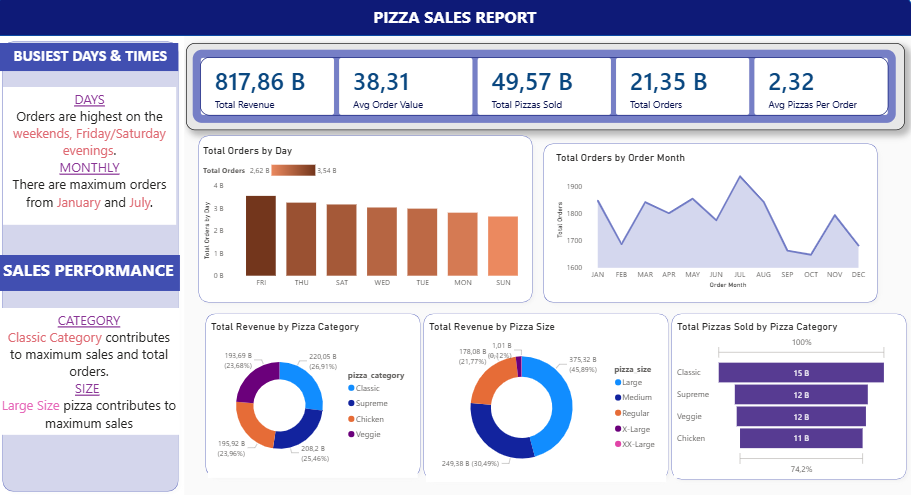

This screenshot's page, from the dashboard's own definition file:
{"tool":"powerbi","page":{"name":"1. sayfa","canvas":[1500,820],"ordinal":0},"visuals":[{"type":"cardVisual","fields":{"Data":["pizza_sales.Total Revenue","pizza_sales.Avg Order Value","pizza_sales.Total Pizzas Sold","pizza_sales.Total Orders","pizza_sales.Avg Pizzas Per Order"]},"box":[310,75.4,1179.2,142.7],"z":0},{"type":"shape","box":[0,0,1500.6,64],"z":1000},{"type":"textbox","box":[547.8,8.2,406.7,49.2],"z":2000},{"type":"shape","box":[321.4,218.1,565.8,291.9],"z":3000},{"type":"clusteredColumnChart","title":"Total Orders by Day","fields":{"Category":["pizza_sales.Order Day"],"Y":["pizza_sales.Total Orders"]},"box":[332.9,241.1,554.3,246],"z":4000},{"type":"shape","box":[887.2,231.2,565.8,278.8],"z":5000},{"type":"areaChart","title":"Total Orders by Order Month","fields":{"Category":["pizza_sales.Order Month"],"Y":["pizza_sales.Total Orders"]},"box":[911.8,252.6,521.5,229.6],"z":6000},{"type":"shape","box":[332.9,510,370.6,285.4],"z":7000},{"type":"shape","box":[690.4,510,419.8,290.3],"z":8000},{"type":"shape","box":[1097.2,510,403.4,290.3],"z":9000},{"type":"donutChart","title":"Total Revenue by Pizza Category","fields":{"Category":["pizza_sales.pizza_category"],"Y":["pizza_sales.Total Revenue"]},"box":[346,529.7,344.4,259.1],"z":10000},{"type":"donutChart","title":"Total Revenue by Pizza Size","fields":{"Y":["pizza_sales.Total Revenue"],"Category":["pizza_sales.pizza_size"]},"box":[703.6,529.7,393.6,265.7],"z":11000},{"type":"funnel","title":"Total Pizzas Sold by Pizza Category","fields":{"Category":["pizza_sales.pizza_category"],"Y":["pizza_sales.Total Pizzas Sold"]},"box":[1110.3,529.7,354.2,259.1],"z":12000},{"type":"shape","box":[0,64,306.7,756],"z":13000},{"type":"textbox","box":[3.3,75.4,293.6,45.9],"z":14000},{"type":"textbox","box":[9.8,147.6,283.7,226.3],"z":15000},{"type":"textbox","box":[0,423.1,300.1,59],"z":16000},{"type":"textbox","box":[1.6,510,298.5,208.3],"z":17000}]}

Visuals, with their boxes in screenshot pixels (x1, y1, x2, y2), scaled from the page's 1500x820 canvas onto the 911x495 screenshot:
cardVisual - pizza_sales.Total Revenue x pizza_sales.Avg Order Value: BBox(188, 46, 904, 132)
shape: BBox(0, 0, 910, 39)
textbox: BBox(333, 5, 580, 35)
shape: BBox(195, 132, 539, 308)
"Total Orders by Day" clusteredColumnChart: BBox(202, 146, 539, 294)
shape: BBox(539, 140, 882, 308)
"Total Orders by Order Month" areaChart: BBox(554, 152, 870, 291)
shape: BBox(202, 308, 427, 480)
shape: BBox(419, 308, 674, 483)
shape: BBox(666, 308, 910, 483)
"Total Revenue by Pizza Category" donutChart: BBox(210, 320, 419, 476)
"Total Revenue by Pizza Size" donutChart: BBox(427, 320, 666, 480)
"Total Pizzas Sold by Pizza Category" funnel: BBox(674, 320, 889, 476)
shape: BBox(0, 39, 186, 494)
textbox: BBox(2, 46, 180, 73)
textbox: BBox(6, 89, 178, 226)
textbox: BBox(0, 255, 182, 291)
textbox: BBox(1, 308, 182, 434)
